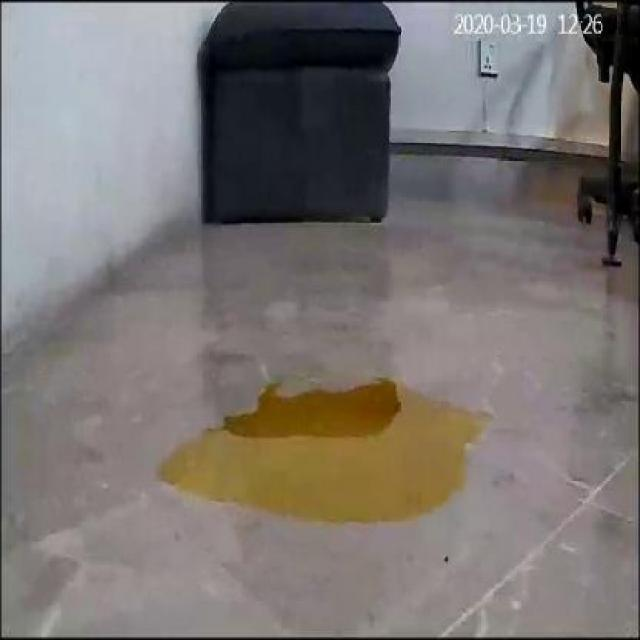spill: (157, 373, 474, 521)
